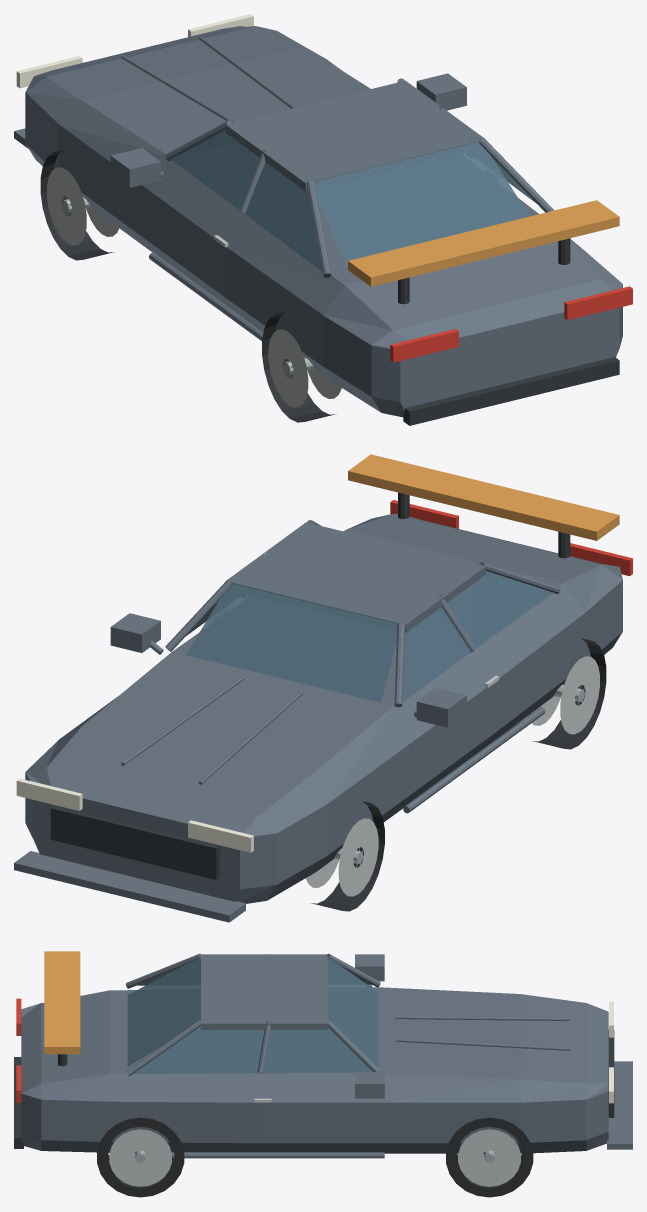
Rendered from kestrel_xr.glb.
The picture shows the model from 3 angles, top to bottom: view 1: azimuth 30°, elevation 25°; view 2: azimuth 150°, elevation 25°; view 3: azimuth 270°, elevation 25°; orthographic projection. The views are drawn at different scales.
Parts seen in each view (by area): view 1: Body_Shell, Rear_Windshield, Roof, Rear_Wing, Diffuser, Rear_Quarter_Glass_-1, Door_Glass_-1, Rim_RL, Rim_FL, Mirror_Housing_-1, Tire_RL, Tire_FL (+8 smaller); view 2: Body_Shell, Windshield, Roof, Rear_Wing, Grille, Splitter, Rear_Quarter_Glass_-1, Door_Glass_-1, Rim_FL, Rim_RL, Tire_RL, Mirror_Housing_-1 (+10 smaller); view 3: Body_Shell, Roof, Rear_Windshield, Rear_Quarter_Glass_1, Rear_Wing, Door_Glass_1, Windshield, Rim_RR, Rim_FR, Tire_RR, Tire_FR, Splitter (+11 smaller).
Part boxes in pixels (x1=…): Body_Shell: x1=25, y1=26, x2=622, y2=417; Rear_Windshield: x1=314, y1=141, x2=529, y2=271; Roof: x1=225, y1=80, x2=485, y2=191; Rear_Wing: x1=348, y1=200, x2=619, y2=286; Diffuser: x1=403, y1=357, x2=619, y2=425; Rear_Quarter_Glass_-1: x1=245, y1=162, x2=322, y2=271; Door_Glass_-1: x1=171, y1=130, x2=259, y2=209; Rim_RL: x1=268, y1=329, x2=341, y2=407; Rim_FL: x1=47, y1=167, x2=119, y2=245; Mirror_Housing_-1: x1=110, y1=148, x2=160, y2=187; Tire_RL: x1=262, y1=311, x2=336, y2=422; Tire_FL: x1=40, y1=150, x2=114, y2=260; Body_Shell: x1=25, y1=513, x2=622, y2=903; Windshield: x1=186, y1=583, x2=397, y2=702; Roof: x1=226, y1=522, x2=485, y2=632; Rear_Wing: x1=348, y1=454, x2=619, y2=540; Grille: x1=50, y1=805, x2=219, y2=879; Splitter: x1=14, y1=851, x2=245, y2=922; Rear_Quarter_Glass_-1: x1=447, y1=571, x2=553, y2=647; Door_Glass_-1: x1=402, y1=607, x2=470, y2=701; Rim_FL: x1=305, y1=818, x2=378, y2=896; Rim_RL: x1=527, y1=656, x2=599, y2=734; Tire_RL: x1=532, y1=638, x2=606, y2=749; Mirror_Housing_-1: x1=416, y1=688, x2=466, y2=727; Body_Shell: x1=21, y1=987, x2=608, y2=1153; Roof: x1=201, y1=954, x2=327, y2=1029; Rear_Windshield: x1=127, y1=957, x2=200, y2=1066; Rear_Quarter_Glass_1: x1=133, y1=1026, x2=264, y2=1073; Rear_Wing: x1=44, y1=951, x2=80, y2=1054; Door_Glass_1: x1=263, y1=1027, x2=372, y2=1072; Windshield: x1=327, y1=957, x2=378, y2=1066; Rim_RR: x1=109, y1=1129, x2=171, y2=1186; Rim_FR: x1=458, y1=1129, x2=520, y2=1186; Tire_RR: x1=97, y1=1117, x2=184, y2=1197; Tire_FR: x1=446, y1=1117, x2=533, y2=1197; Splitter: x1=607, y1=1061, x2=632, y2=1149.
Size of the model in its own units: 2.47 by 1.38 by 4.98.
